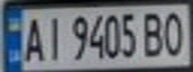0: (103, 10, 124, 60)
4: (87, 11, 106, 60)
5: (118, 9, 142, 58)
9: (66, 11, 90, 61)
A: (21, 14, 45, 63)
B: (139, 8, 169, 59)
I: (42, 12, 66, 62)
O: (160, 7, 190, 57)
